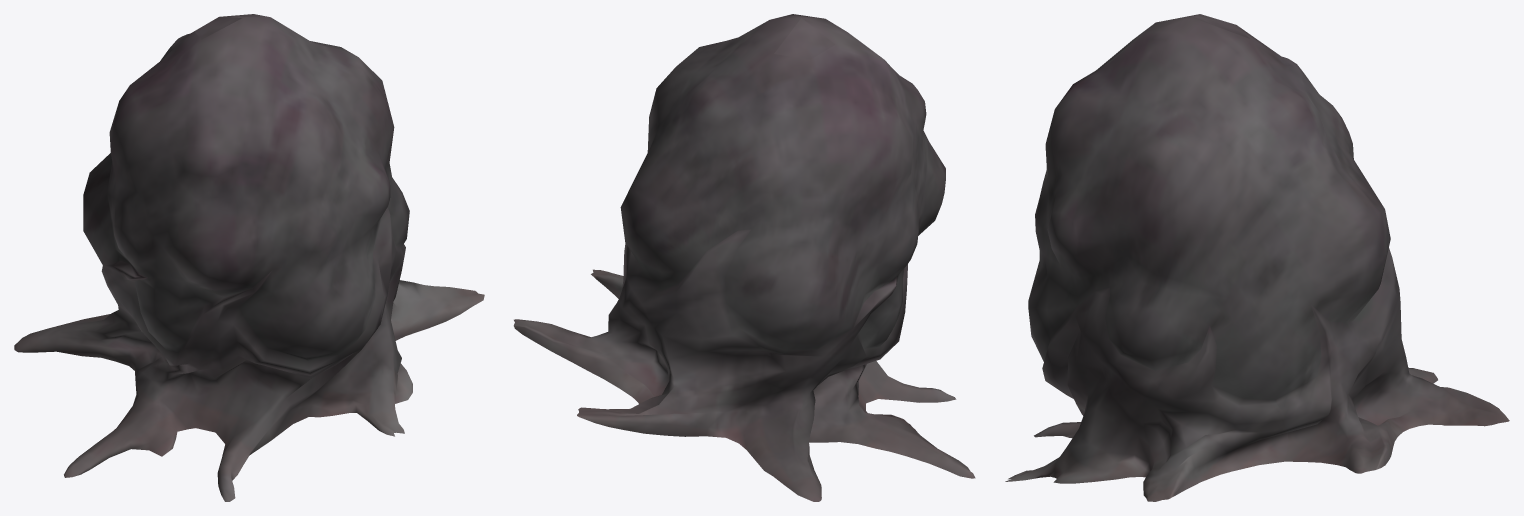
File: Cocoon (10).fbx
3 renders of one model, left to right at view 1: azimuth 30°, elevation 25°; view 2: azimuth 150°, elevation 25°; view 3: azimuth 270°, elevation 25°, orthographic. The views are drawn at different scales.
Visible parts, largest first — view 1: Egg; view 2: Egg; view 3: Egg.
Part boxes in pixels (bbox=[...]): Egg: bbox=[14, 14, 484, 501]; Egg: bbox=[513, 14, 975, 501]; Egg: bbox=[1005, 14, 1509, 501].
Size of the model in its own units: 0.9491 by 0.9425 by 0.9174.
Materials: 1 (1 with a texture image).
